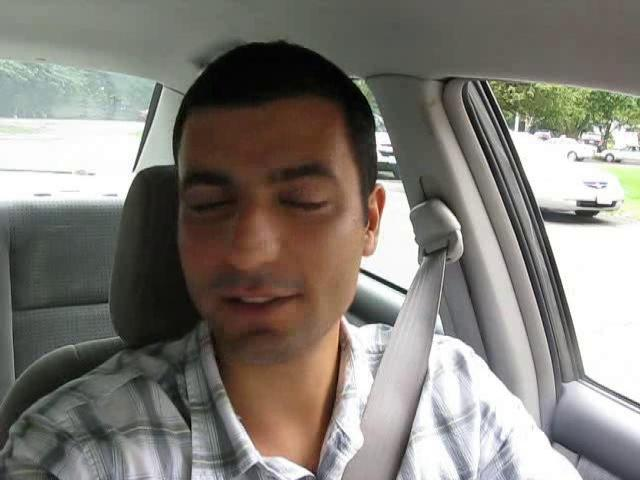eye_closed: (272, 188, 335, 220), (185, 192, 245, 220)
face: (174, 151, 354, 363)
